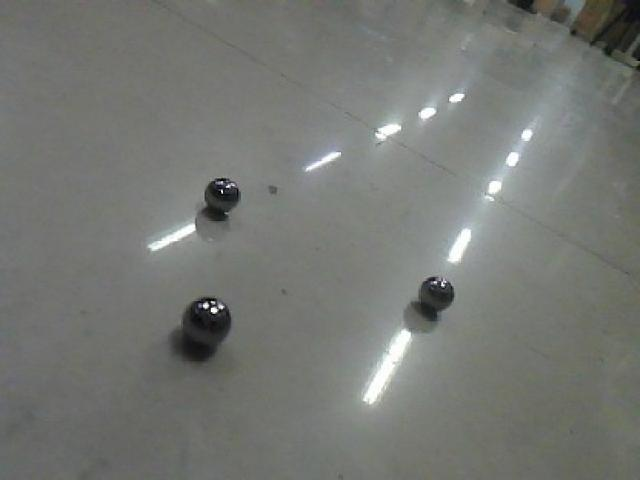steel-ball: (168, 285, 255, 360), (404, 251, 458, 326), (189, 159, 251, 223)
